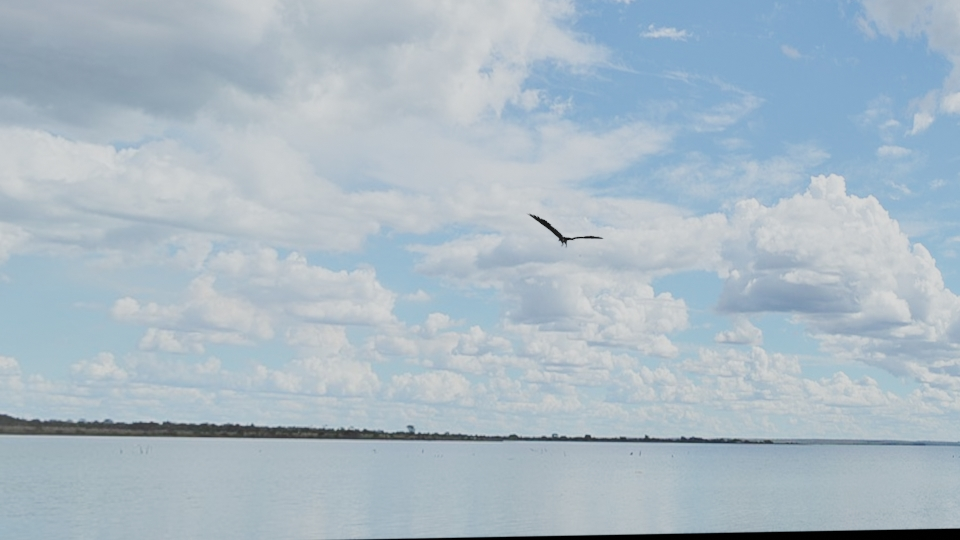bird: (522, 211, 603, 245)
